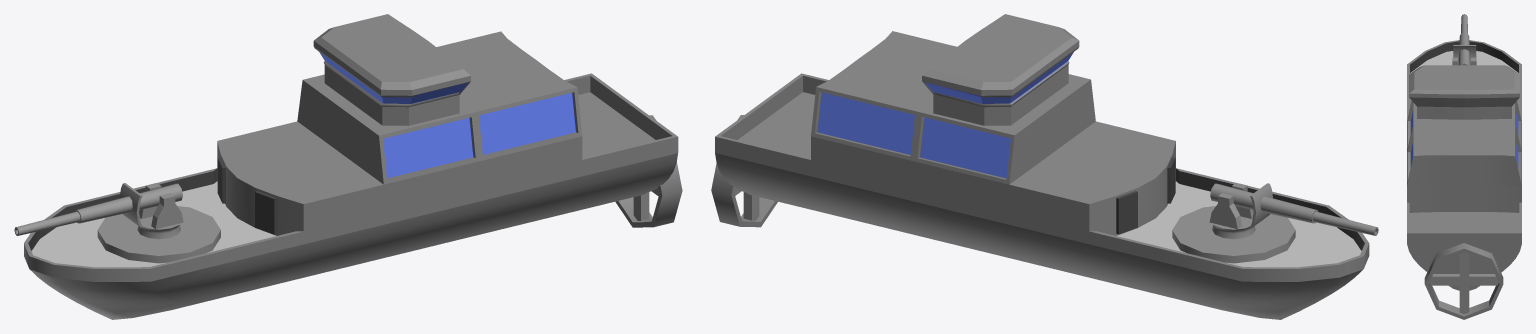
Rendered from battleship.FBX.
3 views of the same model, side by side, from view 1: azimuth 30°, elevation 25°; view 2: azimuth 150°, elevation 25°; view 3: azimuth 270°, elevation 25° (orthographic). The views are drawn at different scales.
Parts seen in each view (by area): view 1: hull, main, main_second, main_top, weapon, railing, railing2, rotaryBase, Box002; view 2: hull, main, main_second, main_top, weapon, railing, railing2, rotaryBase, Box002; view 3: main_second, main_top, hull, main, rotaryBase, railing2, Box002, railing, weapon.
Part boxes in pixels (x1,y1,x2,y2): hull: (30,92,677,319); main: (213,121,582,244); main_second: (297,31,582,184); main_top: (313,14,470,125); weapon: (14,183,220,263); railing: (24,168,303,281); railing2: (564,73,678,176); rotaryBase: (615,115,682,227); Box002: (633,188,659,220); hull: (715,92,1362,319); main: (811,121,1179,243); main_second: (811,31,1095,184); main_top: (922,14,1079,125); weapon: (1172,183,1378,263); railing: (1089,168,1369,281); railing2: (715,73,828,176); rotaryBase: (711,115,777,227); Box002: (734,188,759,220); main_second: (1407,101,1521,186); main_top: (1409,65,1519,119); hull: (1407,51,1521,290); main: (1407,95,1521,212); rotaryBase: (1424,243,1503,319); railing2: (1407,202,1521,244); Box002: (1429,252,1498,313); railing: (1407,40,1521,95); weapon: (1452,14,1476,65).
Bounding box in the file's own units: 1926 × 684 × 454.
